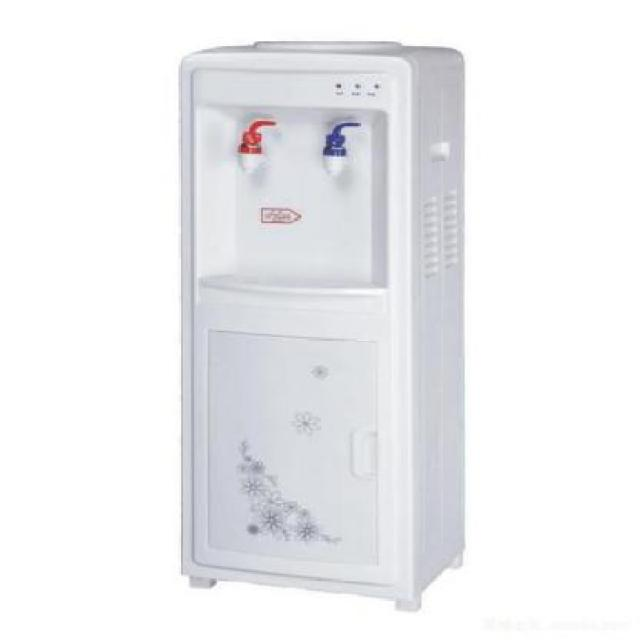cooler: (177, 38, 468, 612)
